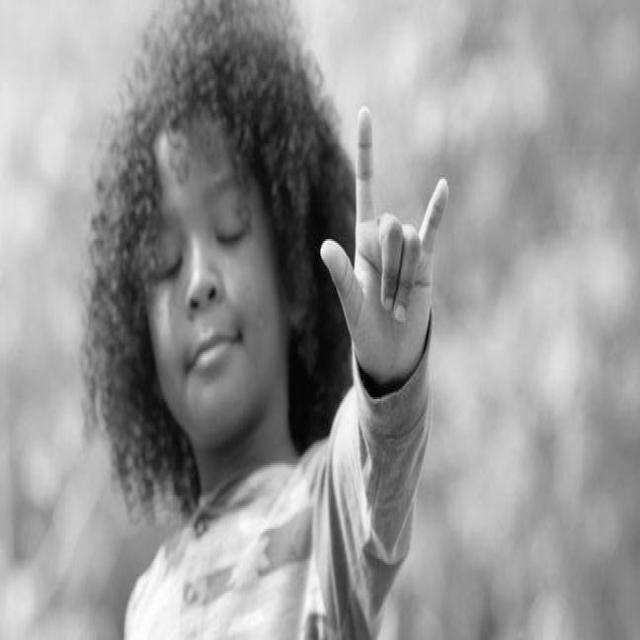i love you: (317, 100, 452, 395)
